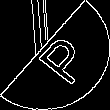P_NW: (21, 24, 89, 86)
